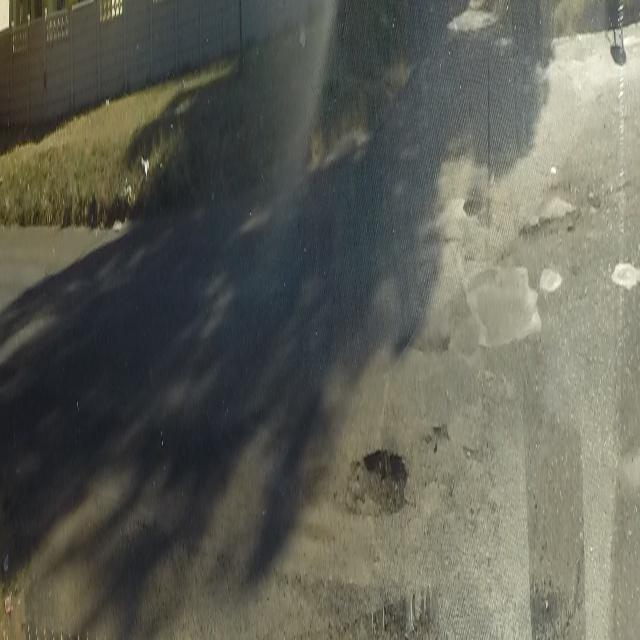pothole: (342, 438, 408, 528), (516, 212, 564, 247)
